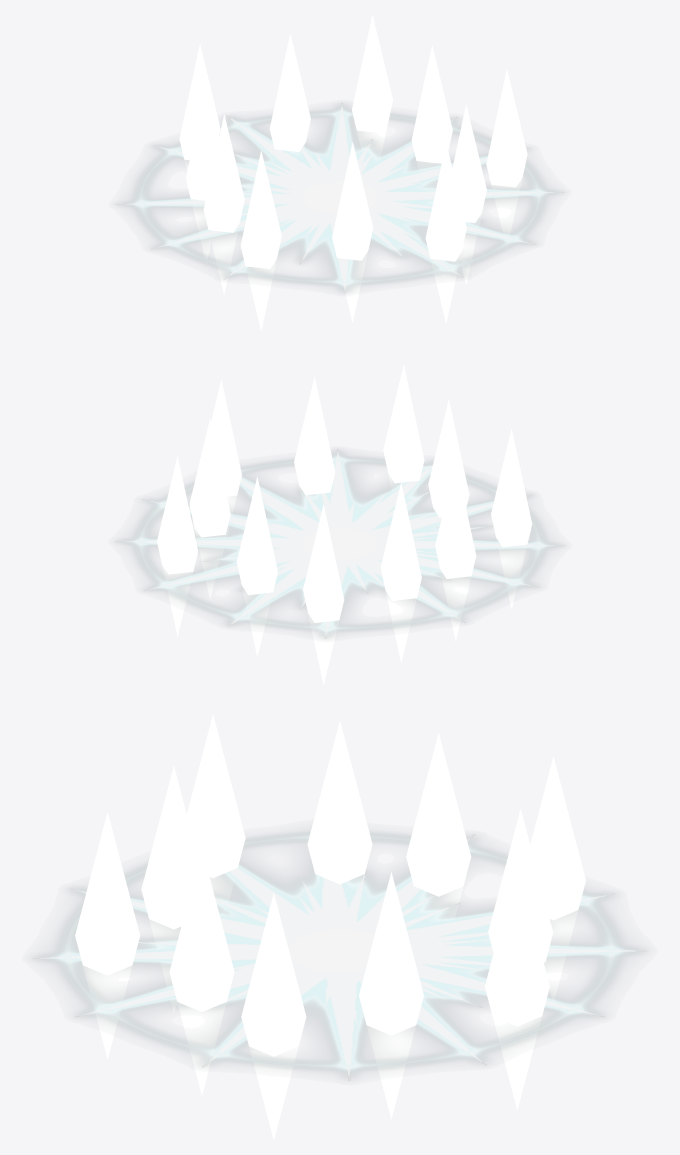
File: fx_frost_asc.glb
3 views of the same model, one above another, from view 1: azimuth 30°, elevation 25°; view 2: azimuth 150°, elevation 25°; view 3: azimuth 270°, elevation 25° (orthographic). The views are drawn at different scales.
Parts seen in each view (by area): view 1: fx_frost_spike, fx_frost_burst; view 2: fx_frost_spike, fx_frost_burst; view 3: fx_frost_spike, fx_frost_burst.
Boxes of the visible parts, <box> form: fx_frost_spike: <box>179,14,527,330</box>; fx_frost_burst: <box>115,102,564,293</box>; fx_frost_spike: <box>157,364,532,684</box>; fx_frost_burst: <box>115,449,564,638</box>; fx_frost_spike: <box>75,714,585,1140</box>; fx_frost_burst: <box>32,830,646,1080</box>.
Size of the model in its own units: 1 by 0.42 by 1.
2 materials, 1 textured.
